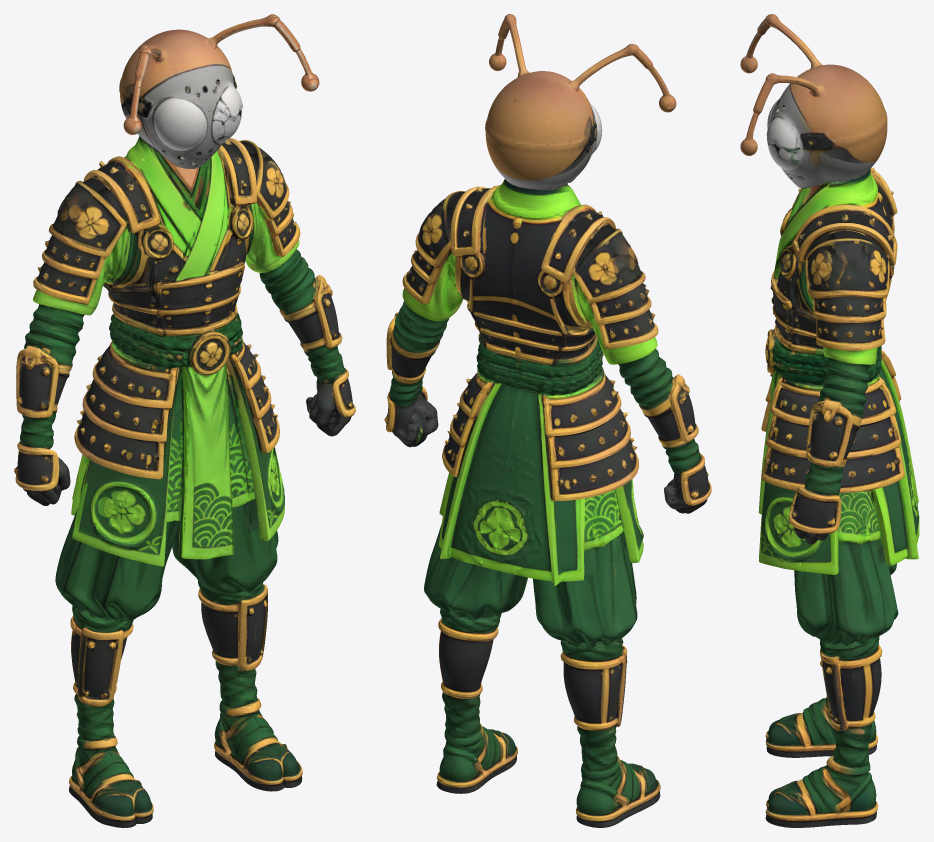
File: rebel_4998_static_source_shogun_v5c4v_q3.glb
3 views of the same model, side by side, from view 1: azimuth 30°, elevation 25°; view 2: azimuth 150°, elevation 25°; view 3: azimuth 270°, elevation 25° (orthographic). The views are drawn at different scales.
Visible parts, largest first — view 1: Mesh_0; view 2: Mesh_0; view 3: Mesh_0.
Part boxes in pixels (x1,y1,x2,y2): Mesh_0: (14,14,355,827); Mesh_0: (384,14,711,827); Mesh_0: (740,14,919,827).
Bounding box in the file's own units: 0.8492 × 1.9 × 0.418.
Materials: 1 (1 with a texture image).
